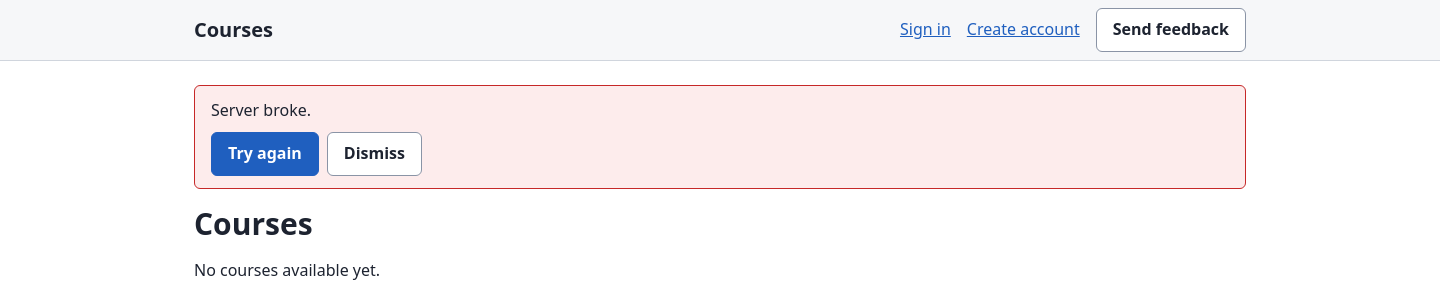
Test: repeats /me when Try again is pressed, and a success removes the banner and shows the learner
This screenshot has width=1440, height=297.
Click the button "Try again".
click(265, 154)  # box [211,132,319,176]
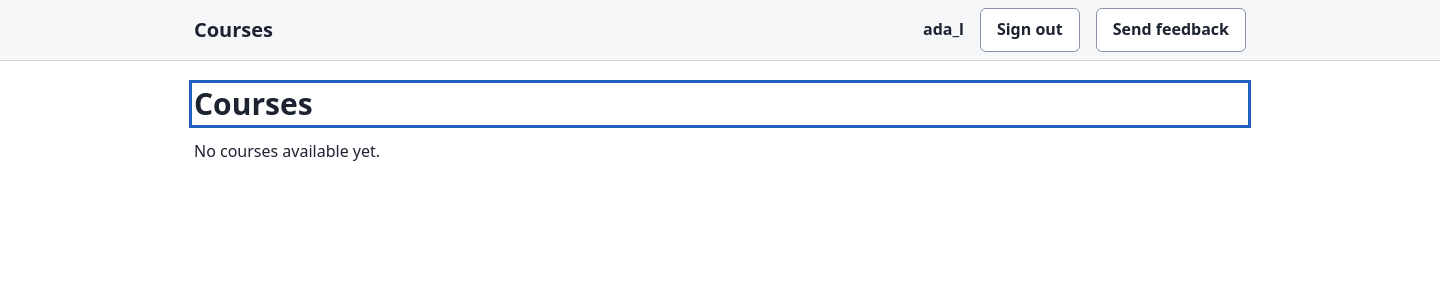
Result: the text "ada_l" is shown at [923,17,964,43]
Result: the message "Server broke. Try again Dismiss" is gone
